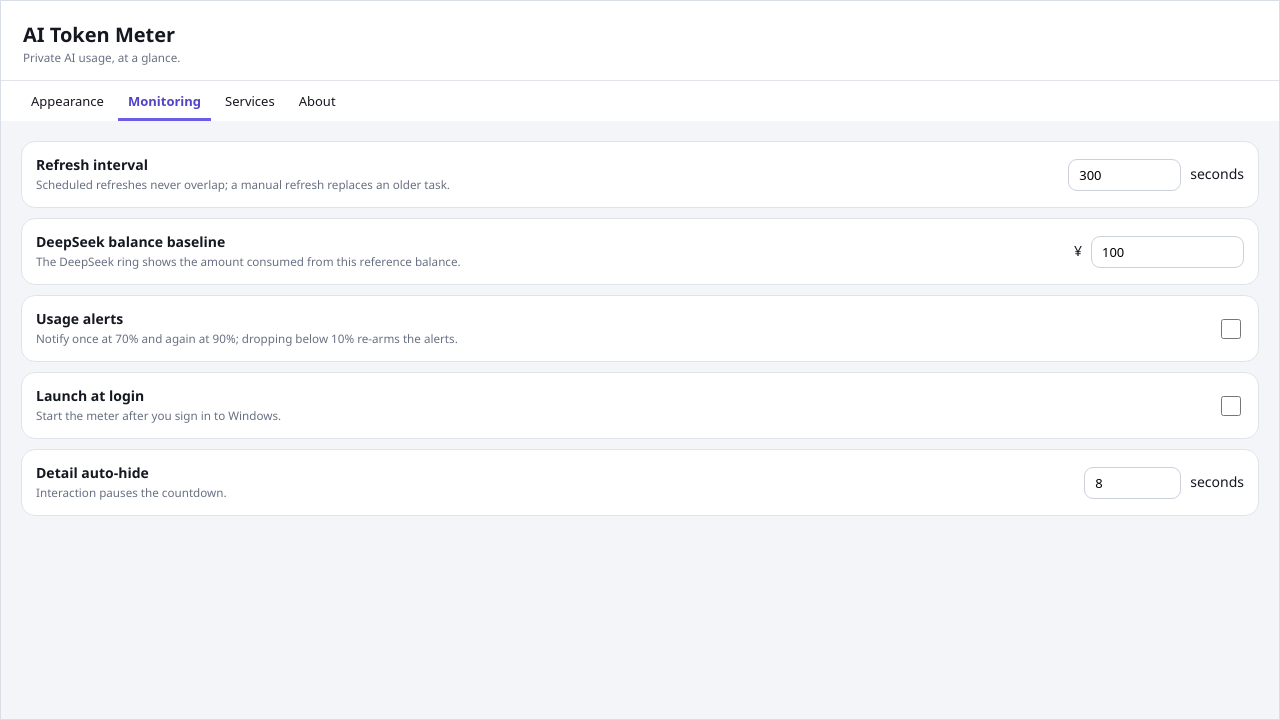
Test: Windows meter interface › edits refresh cadence and DeepSeek balance baseline in Monitoring
Replace the text in the number field named "Refresh interval seconds" with "120" at (1125, 174), box [1068,158,1181,190]
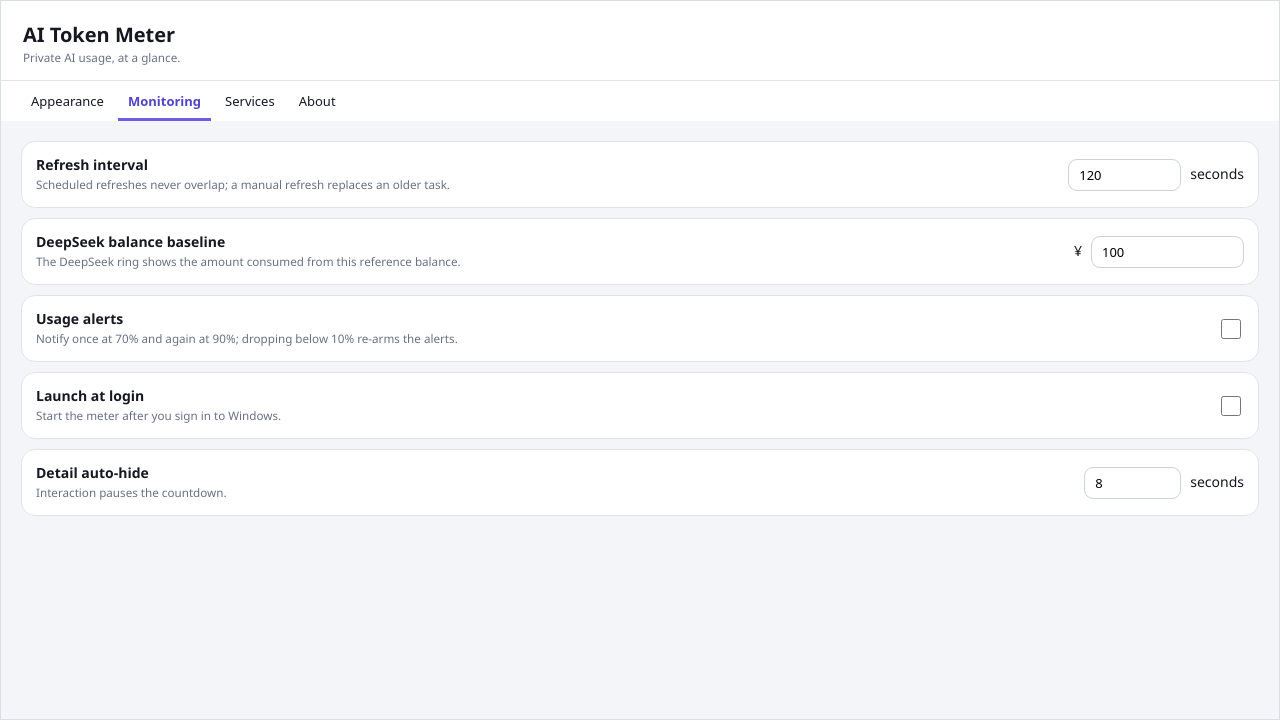
Replace the text in the number field named "Refresh interval seconds" with "120.5" at (1125, 174), box [1068,158,1181,190]
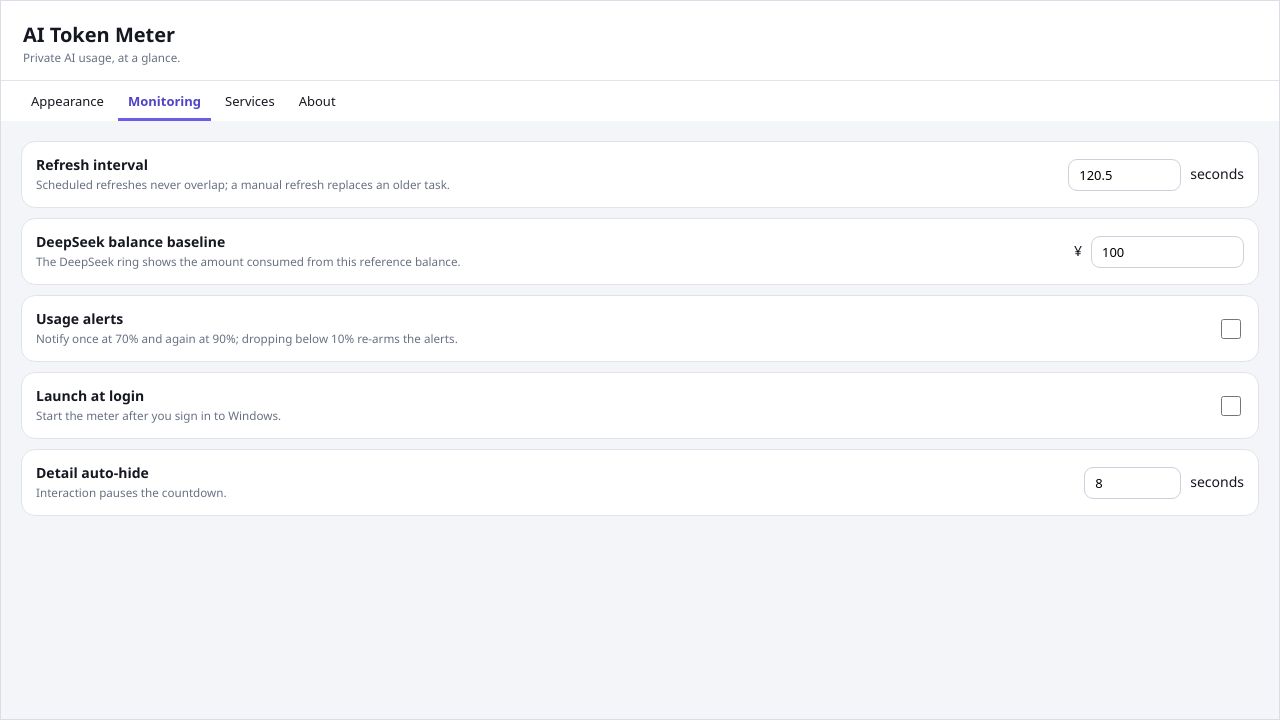
Press Enter in the number field named "Refresh interval seconds", box [1068,158,1181,190]
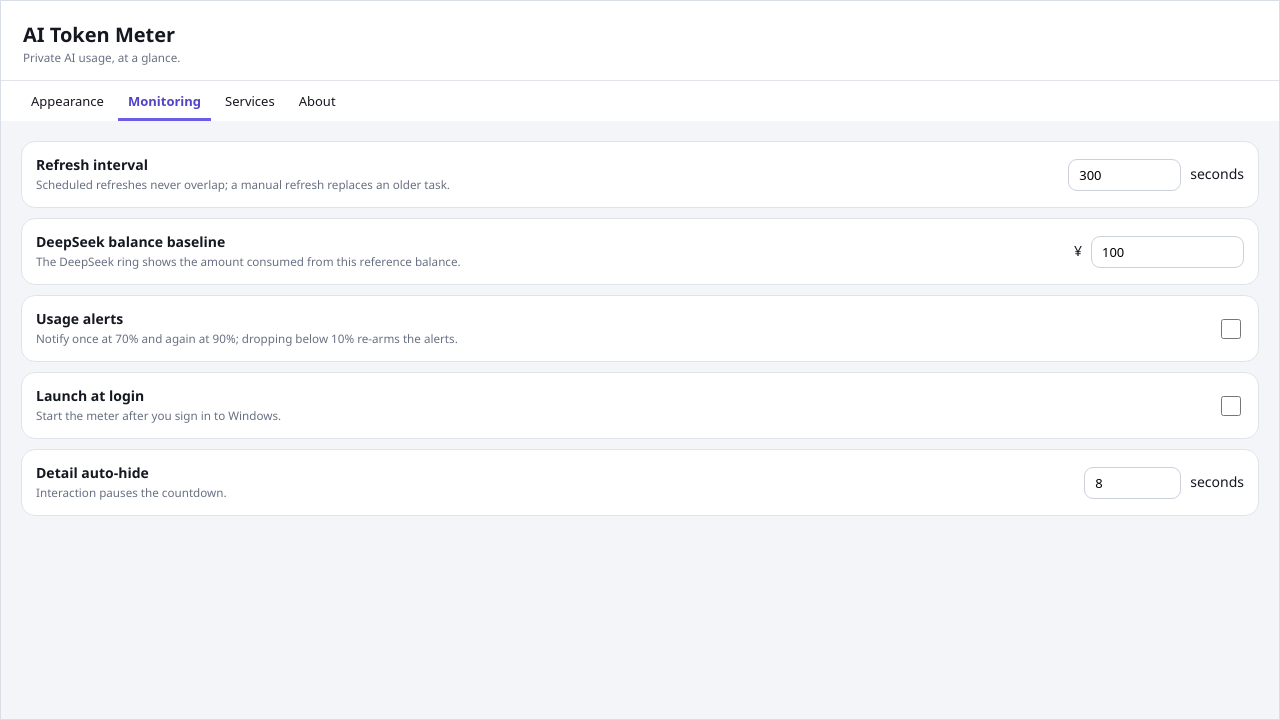
Now the number field named "Refresh interval seconds" holds "300", box [1068,158,1181,190]
Replace the text in the number field named "DeepSeek balance baseline" with "250.5" at (1168, 252), box [1091,236,1244,268]
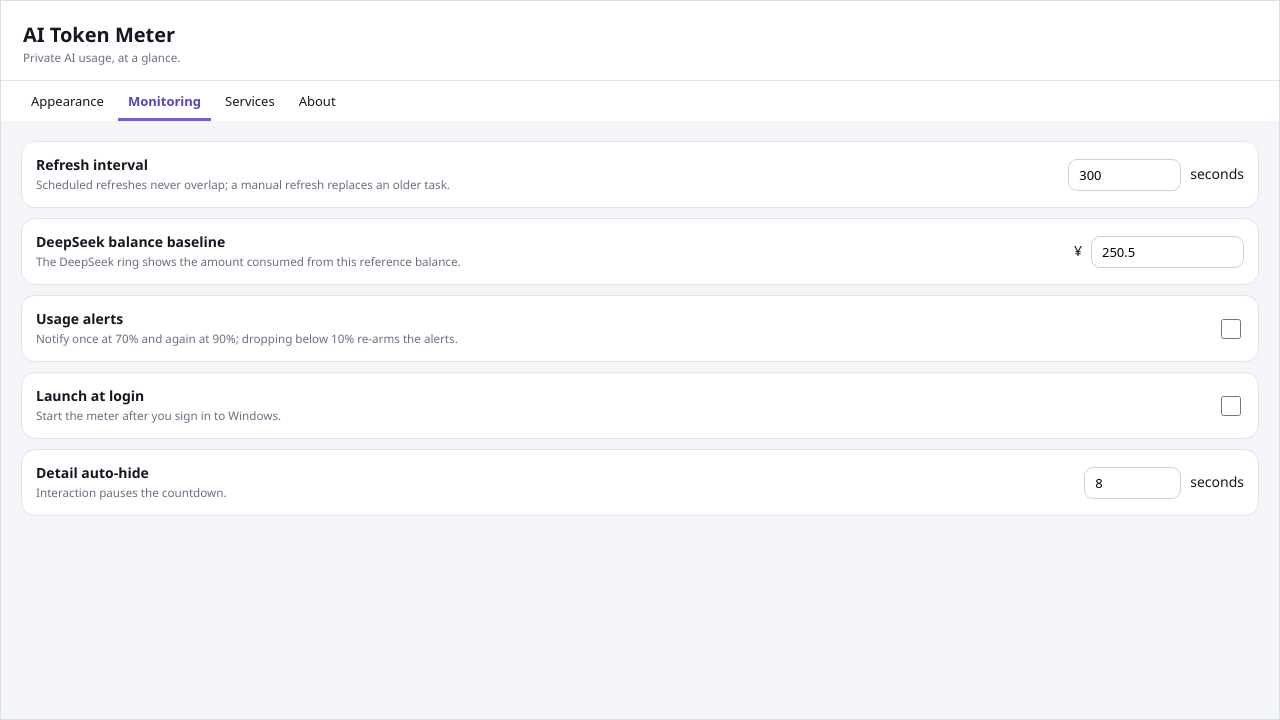
Press Enter in the number field named "DeepSeek balance baseline", box [1091,236,1244,268]
Replace the text in the number field named "DeepSeek balance baseline" with "250.505" at (1168, 252), box [1091,236,1244,268]
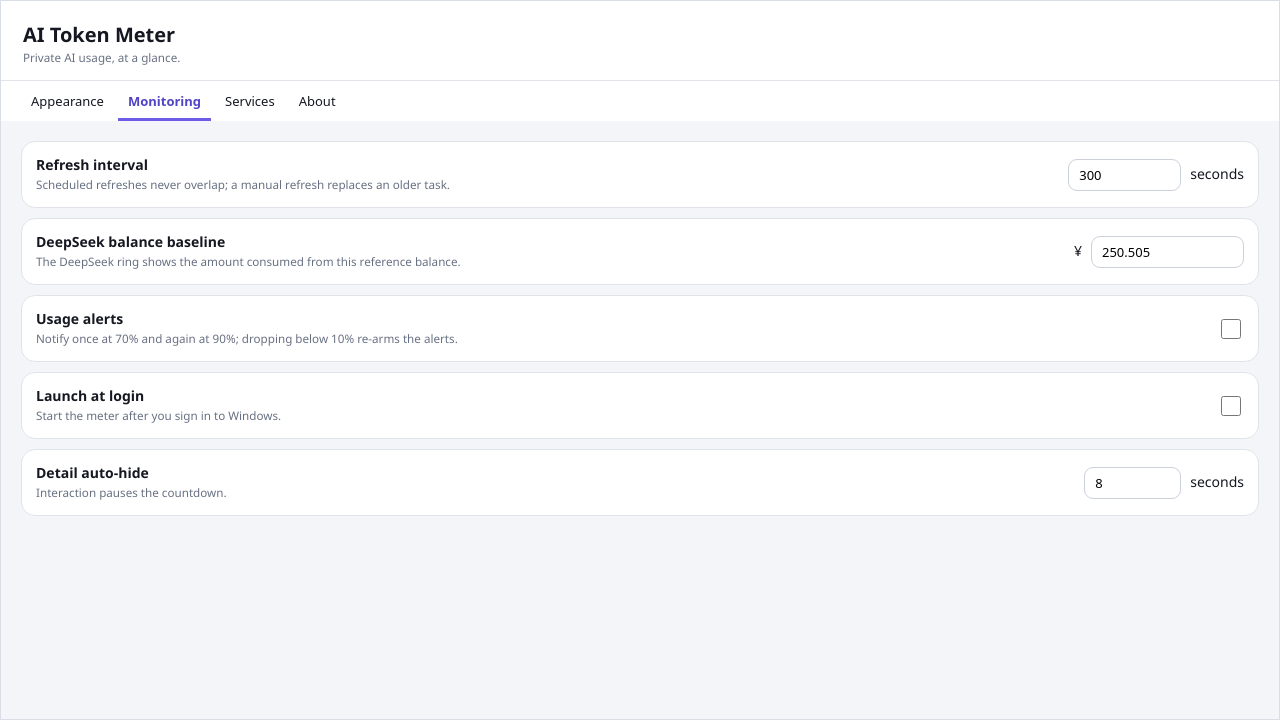
Leave the number field named "DeepSeek balance baseline", box [1091,236,1244,268]
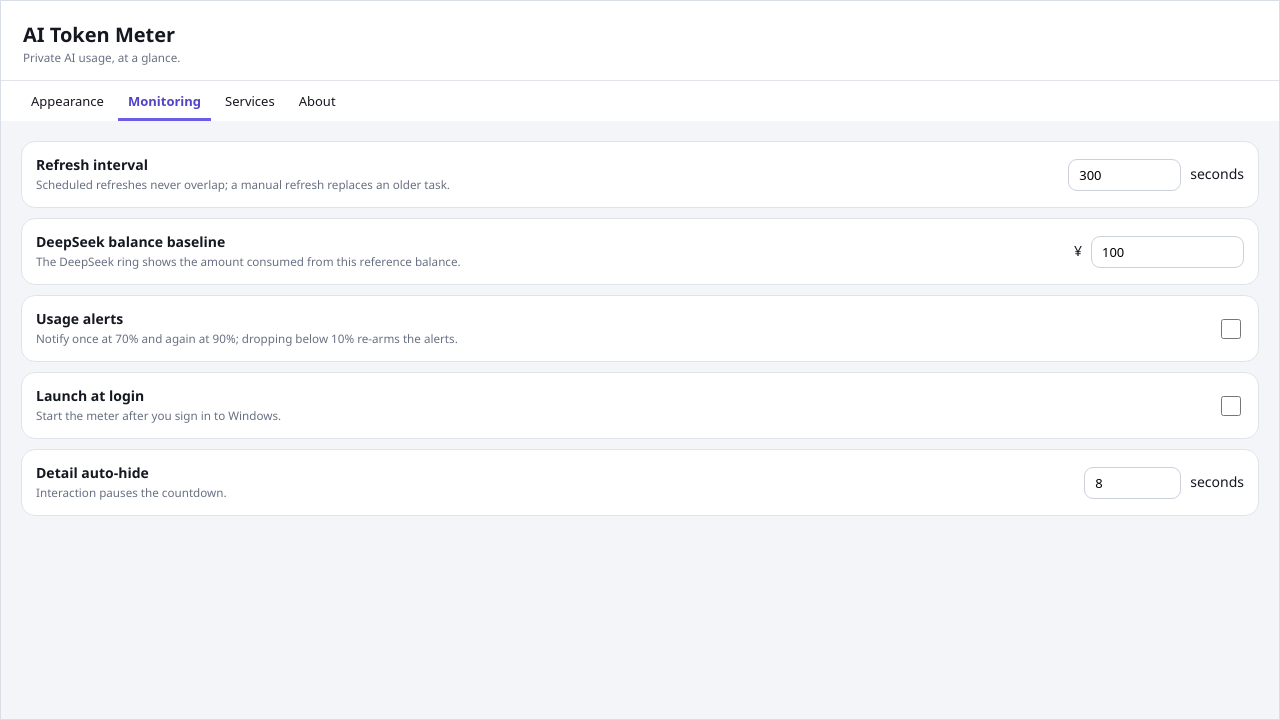
Now the number field named "DeepSeek balance baseline" holds "100", box [1091,236,1244,268]
